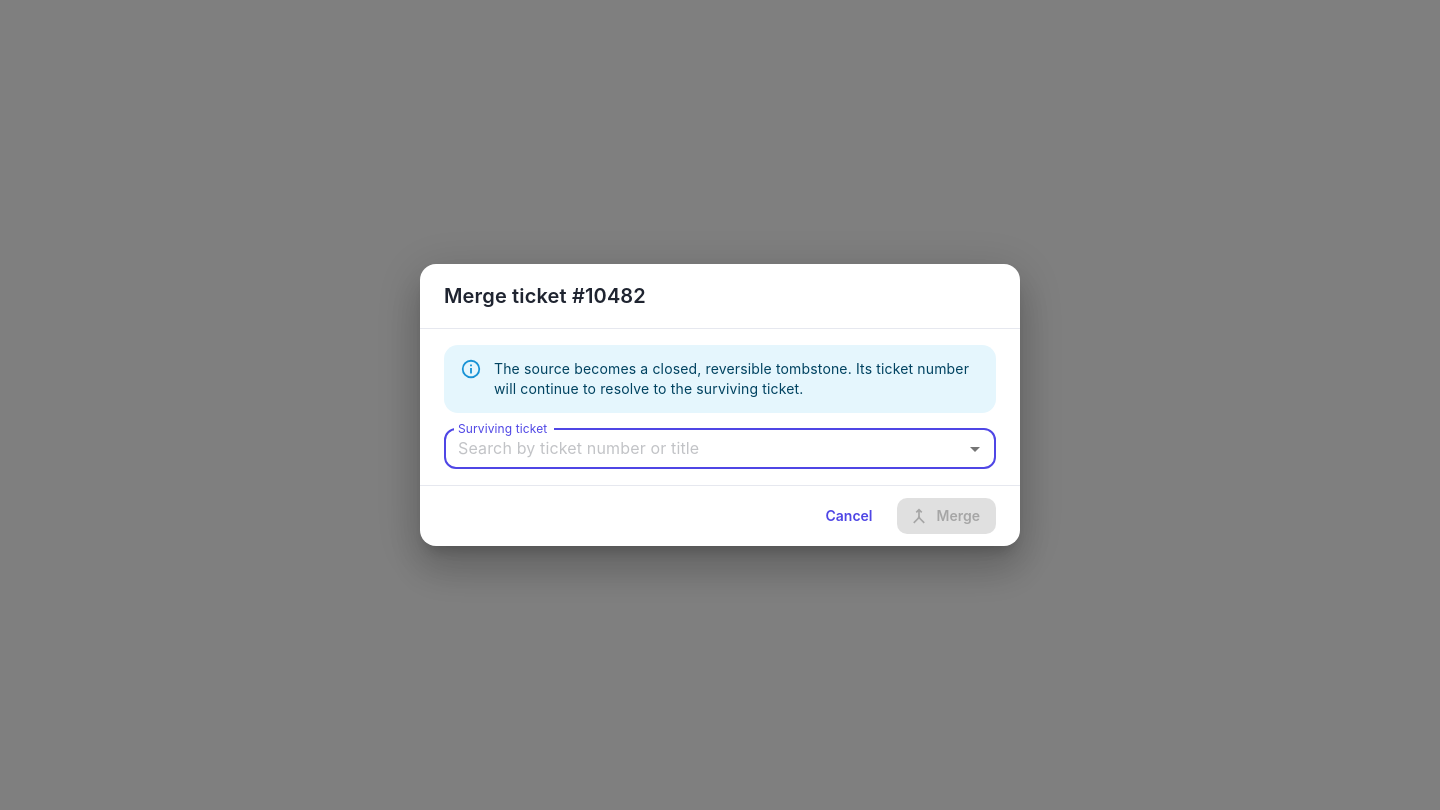
MergeTicketDialog acknowledgement gate › clears acknowledgements when the surviving ticket is changed
The image size is (1440, 810).
Step 1. Type "10479" into the dropdown labelled "Surviving ticket" → (704, 449), box [450,435,957,463]
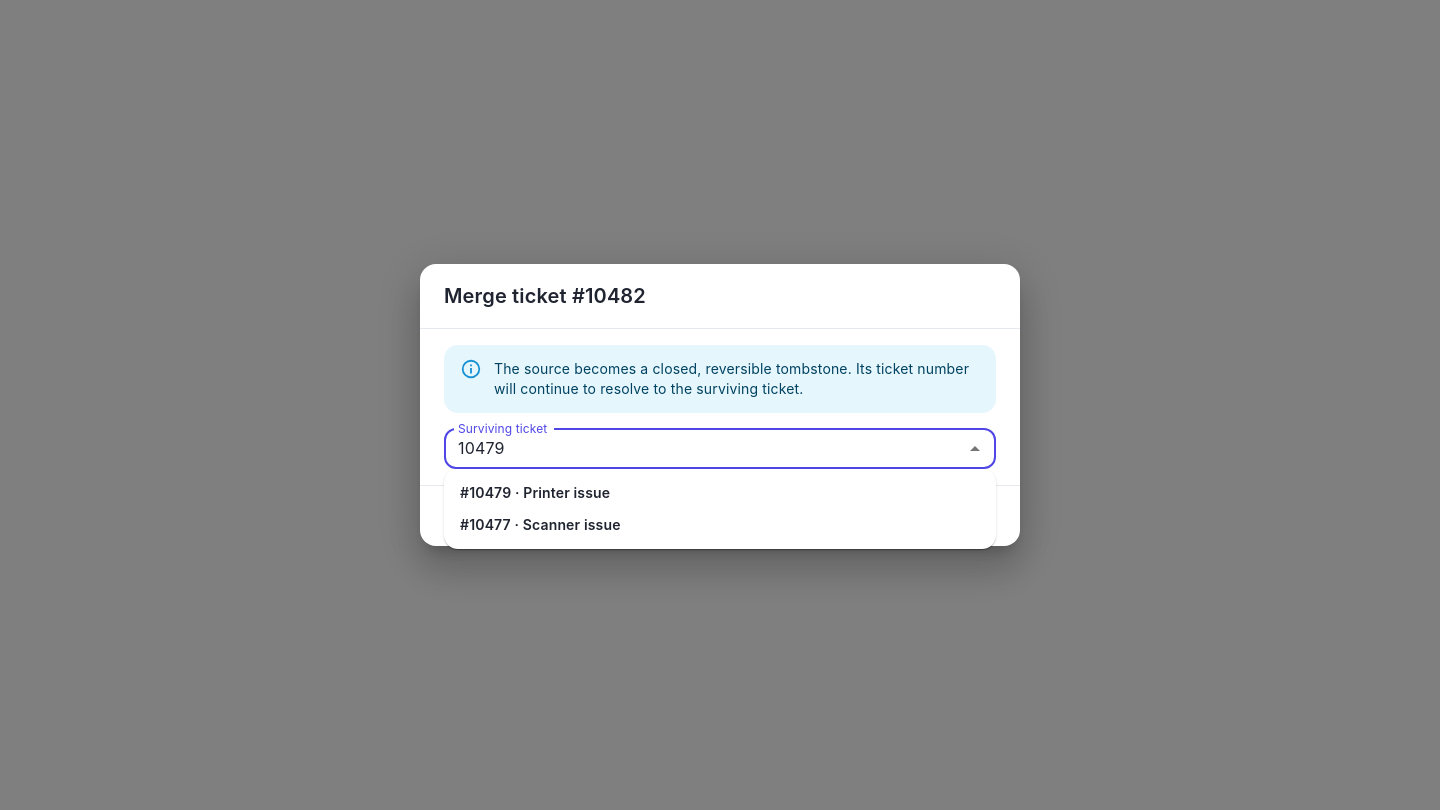
Step 2. Click the option "#10479 · Printer issue" → (535, 492), box [460,484,610,501]
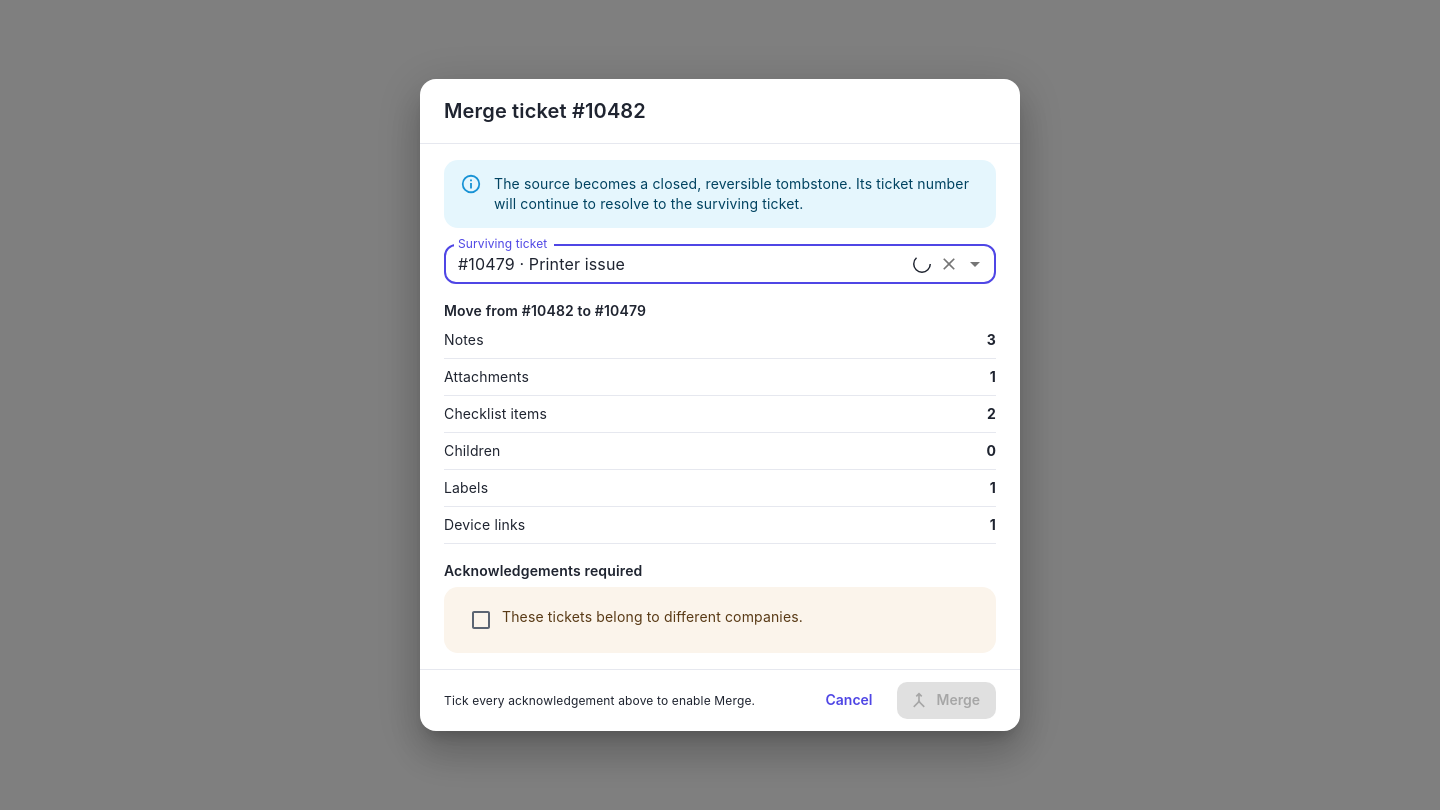
expect the heading "Move from #10482 to #10479" is shown: met, box [444,302,646,319]
Step 3. Click the checkbox named "Acknowledge cross-company" → (636, 620), box [469,608,803,632]
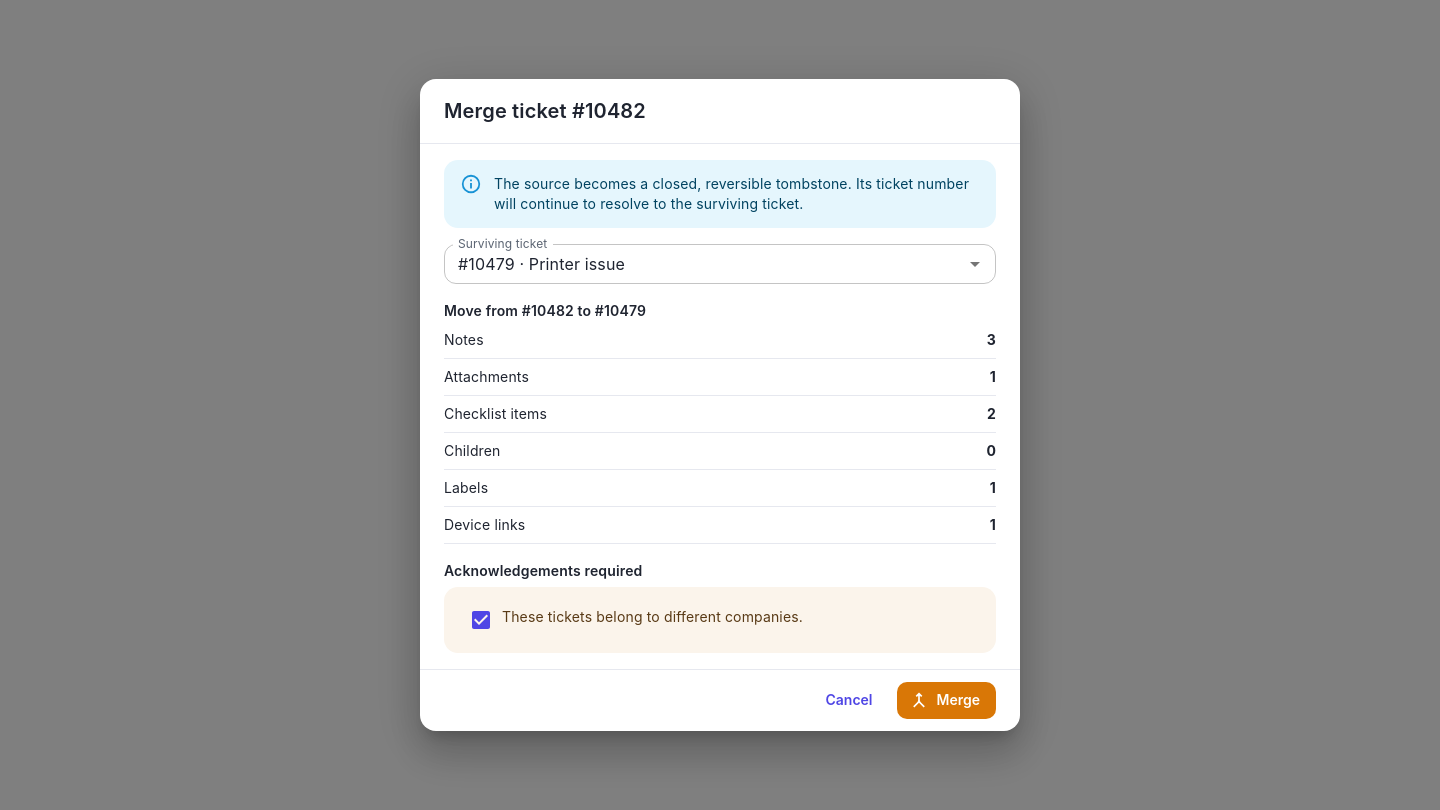
expect the button "Merge" is enabled: met, box [896,682,996,719]
Step 4. Clear the dropdown labelled "Surviving ticket" → (690, 264), box [450,250,931,278]
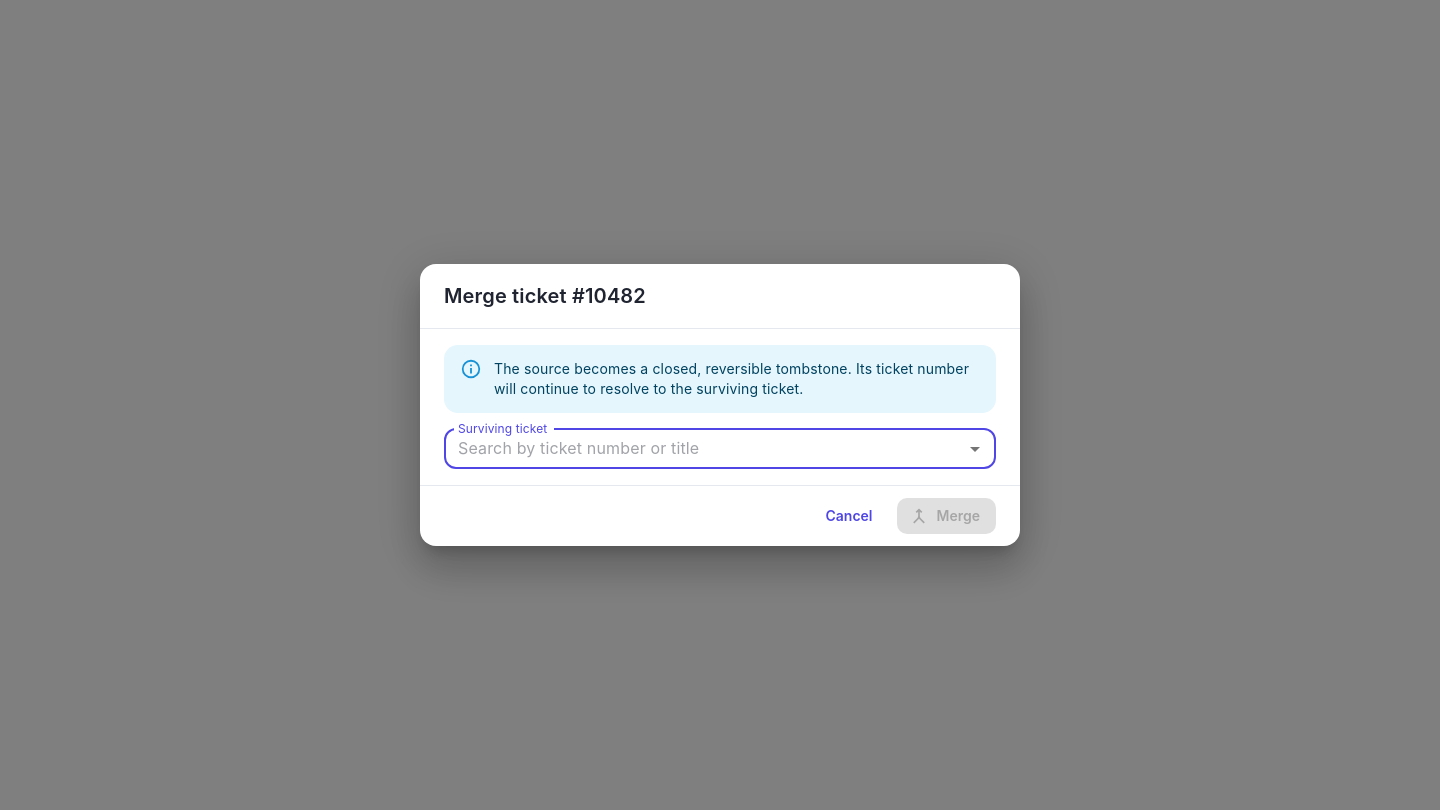
Step 5. Type "10477" into the dropdown labelled "Surviving ticket" → (704, 449), box [450,435,957,463]
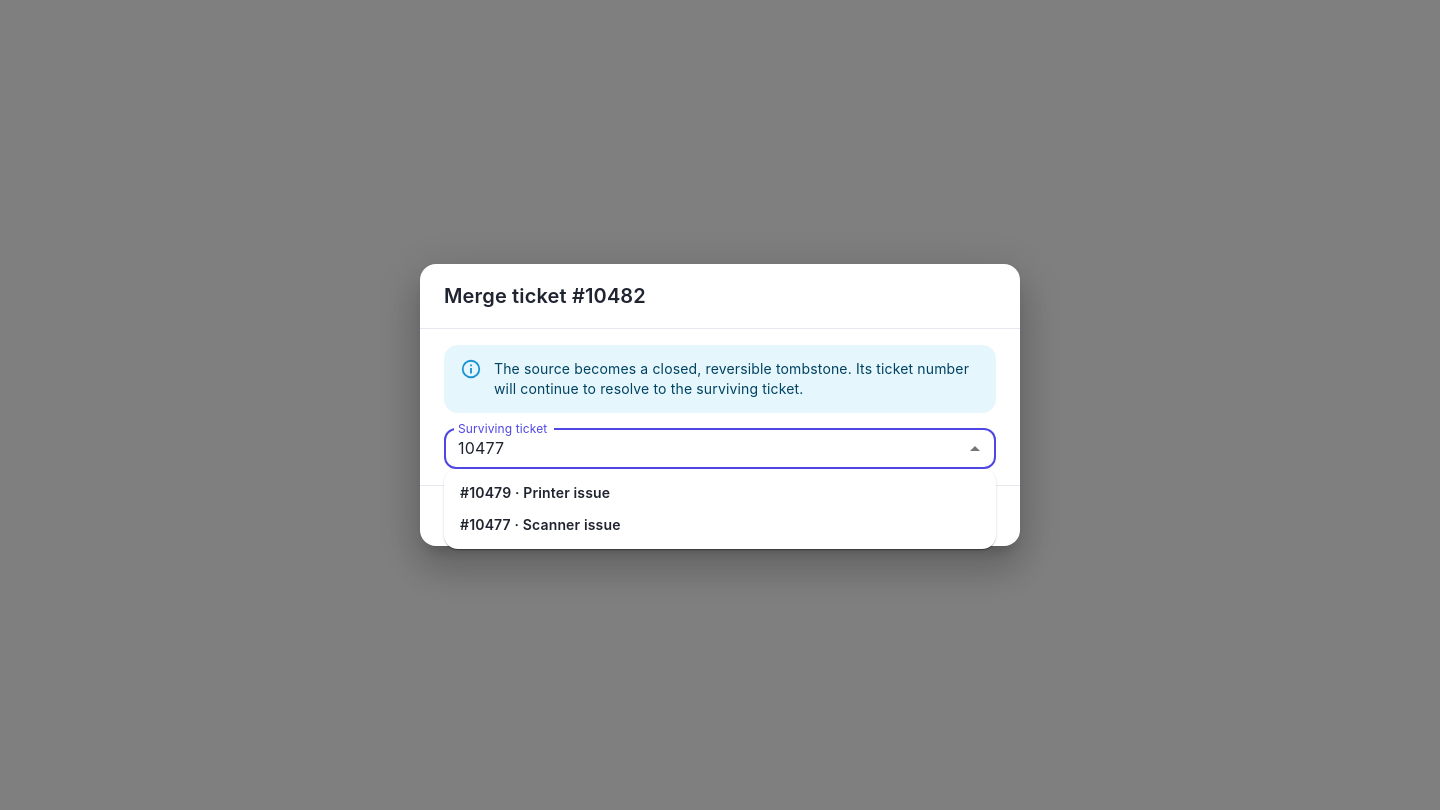
Step 6. Click the option "#10477 · Scanner issue" → (540, 524), box [460,516,621,533]
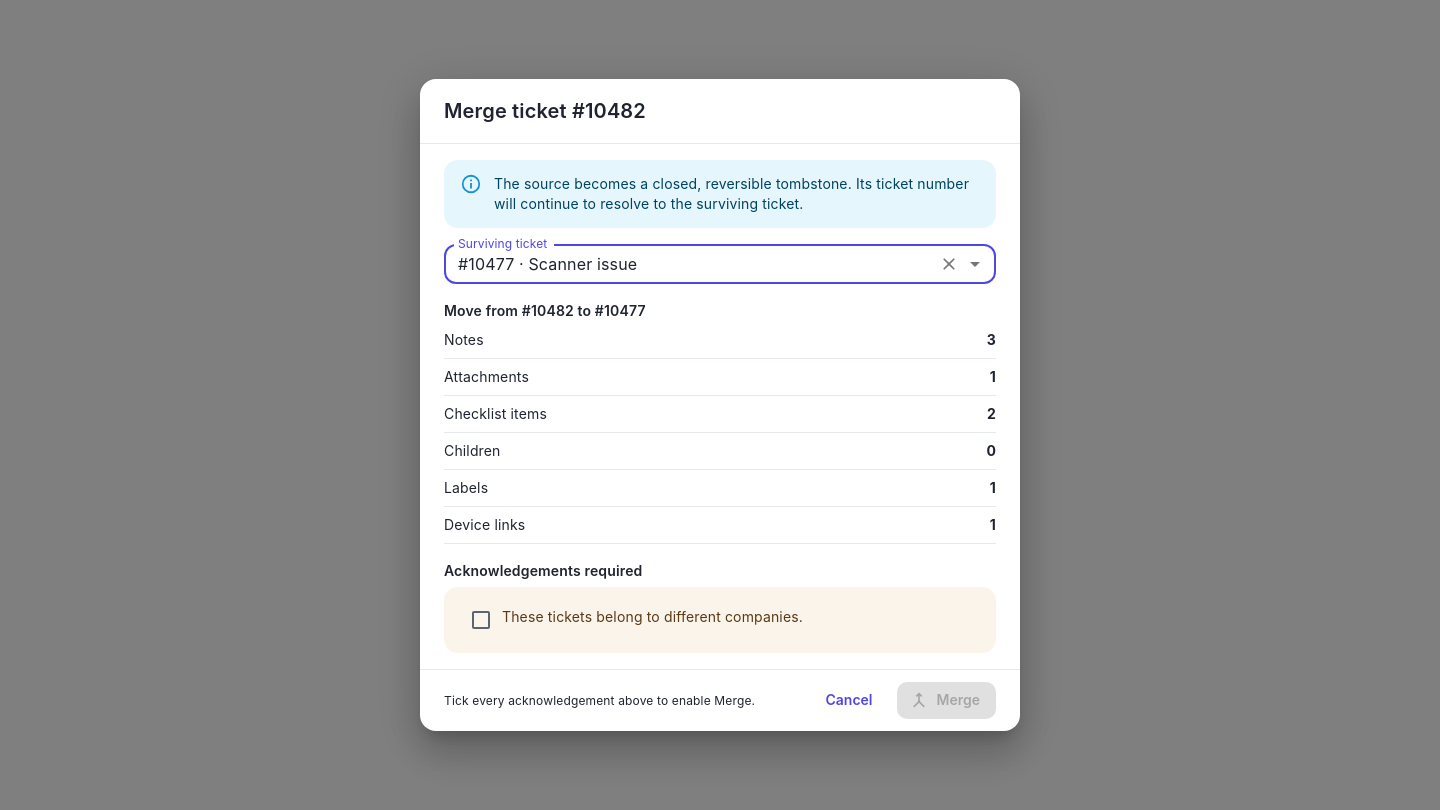
expect the button "Merge" is disabled: met, box [896,682,996,719]
expect the checkbox named "Acknowledge cross-company" is not checked: met, box [469,608,803,632]
